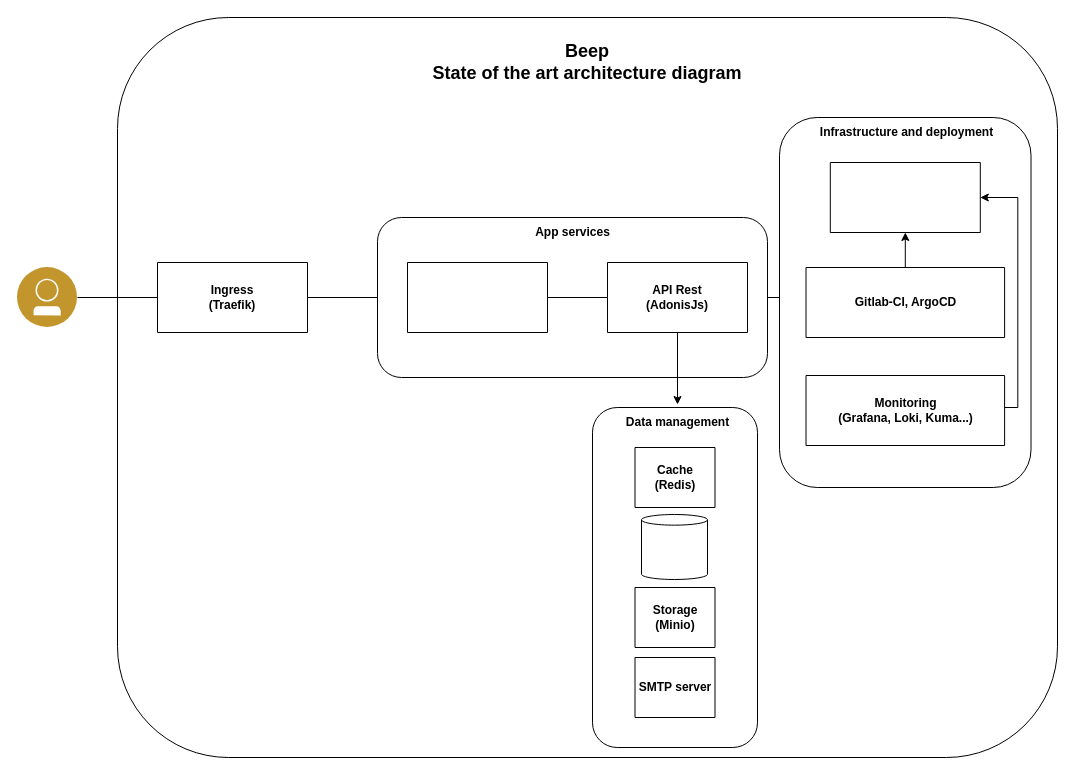
Some shapes in this 1075 by 775 pixel diagram are drawn without their labels. The centre of each missing label's shape, as x and y in pixels:
"BDD (Postgres)" goes at (674,547).
"Frontend (React)" goes at (477,297).
"K8s cluster" goes at (904,197).
"USER" goes at (47,297).
